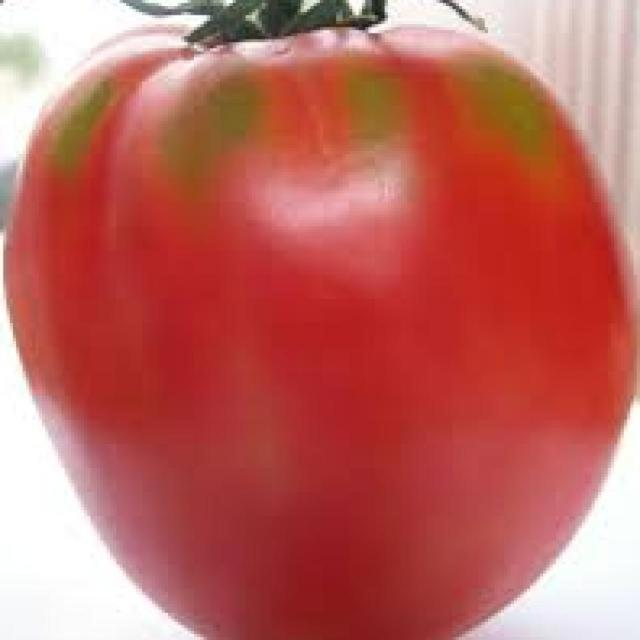Healthy Fruit: (10, 16, 423, 426)
